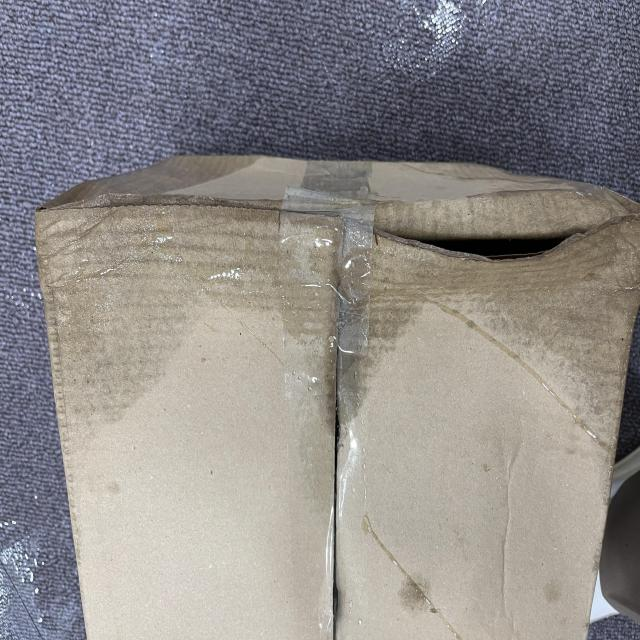wet: (3, 49, 345, 640)
